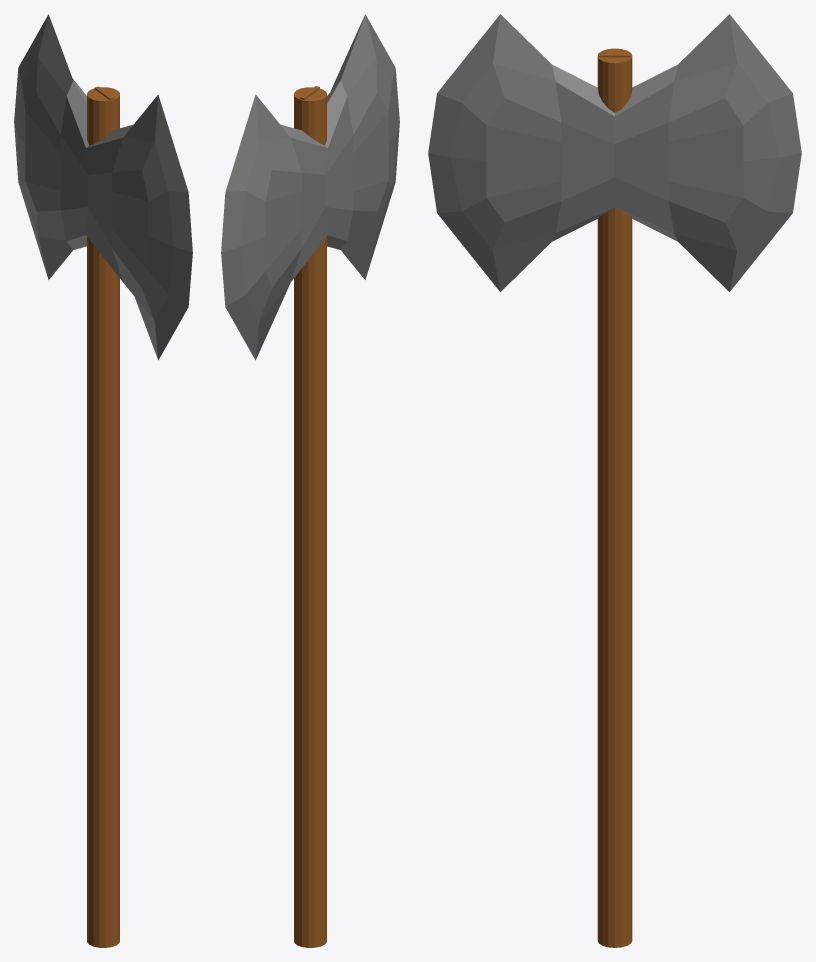
Rendered from BattleAx.fbx.
3 views of the same model, side by side, from view 1: azimuth 30°, elevation 25°; view 2: azimuth 150°, elevation 25°; view 3: azimuth 270°, elevation 25° (orthographic). The views are drawn at different scales.
Parts seen in each view (by area): view 1: Cube; view 2: Cube; view 3: Cube.
Boxes of the visible parts, x1,y1,x2,y2 form: Cube: [14, 14, 192, 947]; Cube: [221, 14, 399, 947]; Cube: [428, 14, 801, 947].
Bounding box in the file's own units: 0.0498 × 1.21 × 0.4435.
